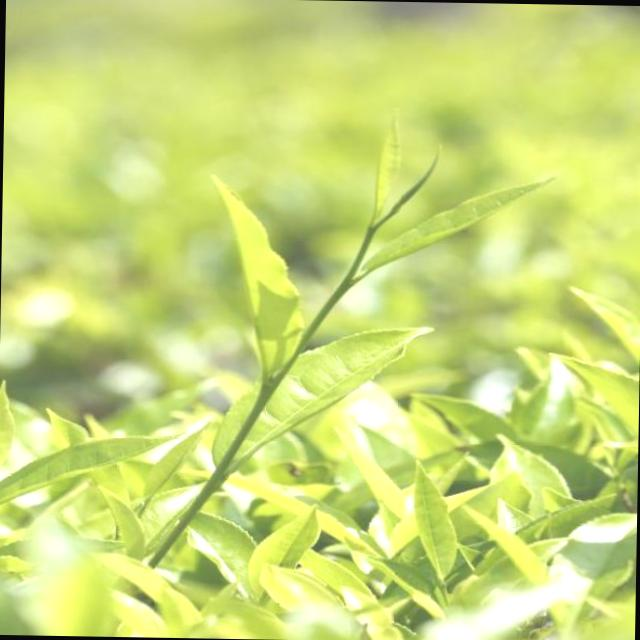Stem: (339, 278, 353, 292)
